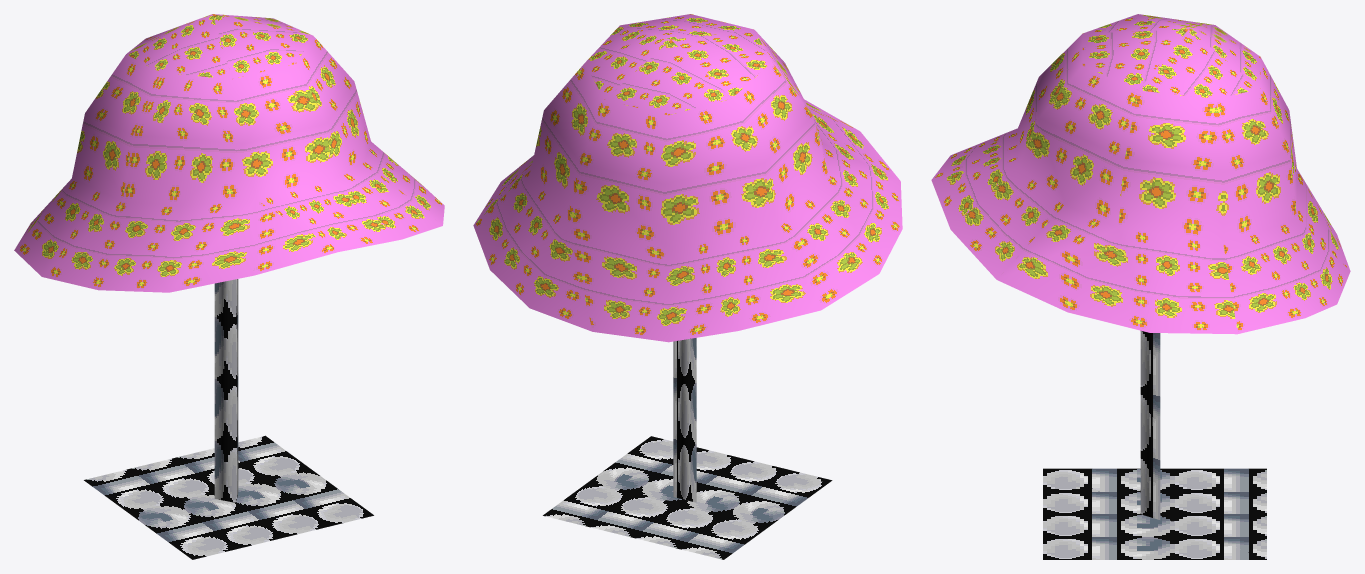
File: 2897head060_c.gltf
3 views of the same model, side by side, from view 1: azimuth 30°, elevation 25°; view 2: azimuth 150°, elevation 25°; view 3: azimuth 270°, elevation 25° (orthographic). The views are drawn at different scales.
Visible parts, largest first — view 1: 2897head060_c; view 2: 2897head060_c; view 3: 2897head060_c.
Boxes of the visible parts, bbox=[...] form: 2897head060_c: bbox=[14, 14, 444, 559]; 2897head060_c: bbox=[473, 14, 902, 559]; 2897head060_c: bbox=[931, 14, 1350, 559].
Bounding box in the file's own units: 0.9644 × 1.15 × 0.8972.
2 materials, 2 textured.
